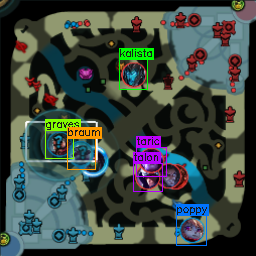akali: (82, 147, 105, 173)
braum: (69, 140, 92, 165)
graves: (47, 131, 71, 156)
kalista: (121, 62, 145, 87)
poppy: (179, 217, 205, 242)
sylas: (157, 164, 180, 186)
talon: (135, 166, 159, 188)
taric: (139, 149, 160, 171)
